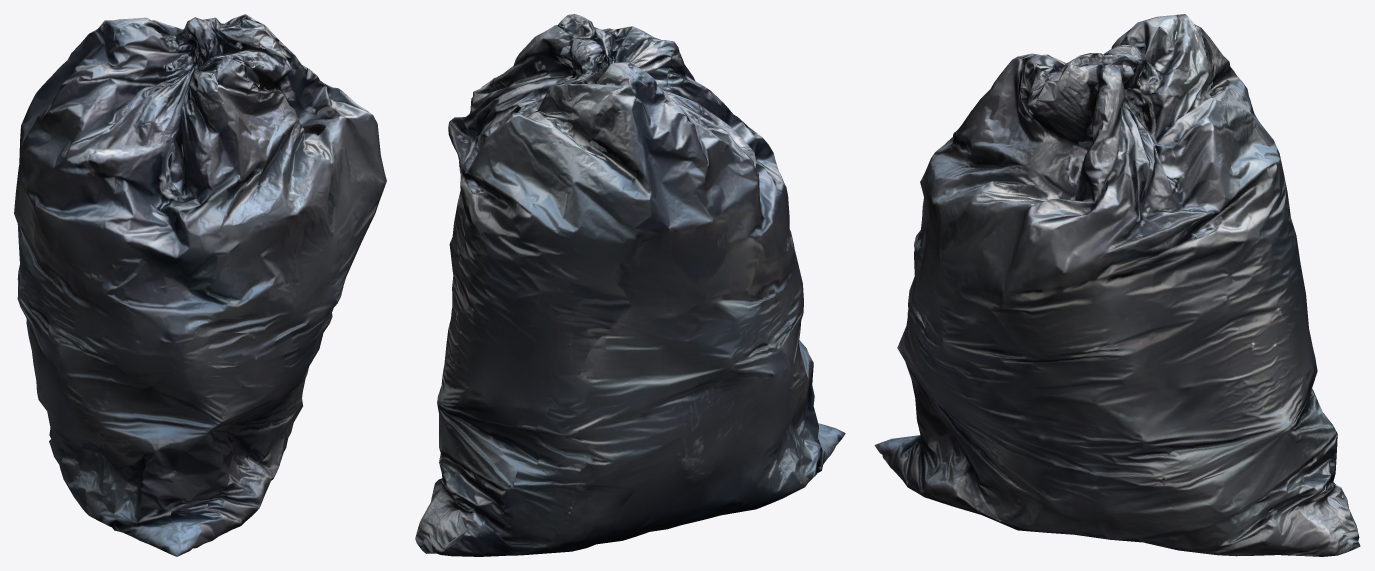
File: trash_bags.glb
The picture shows the model from 3 angles, left to right: view 1: azimuth 30°, elevation 25°; view 2: azimuth 150°, elevation 25°; view 3: azimuth 270°, elevation 25°; orthographic projection. The views are drawn at different scales.
Parts seen in each view (by area): view 1: Black Garbage Bag.002; view 2: Black Garbage Bag.002; view 3: Black Garbage Bag.002.
Boxes of the visible parts, x1,y1,x2,y2 form: Black Garbage Bag.002: [14, 14, 386, 556]; Black Garbage Bag.002: [415, 14, 845, 556]; Black Garbage Bag.002: [874, 14, 1360, 556].
Size of the model in its own units: 0.6932 by 0.9 by 0.8335.
1 material, 1 textured.
